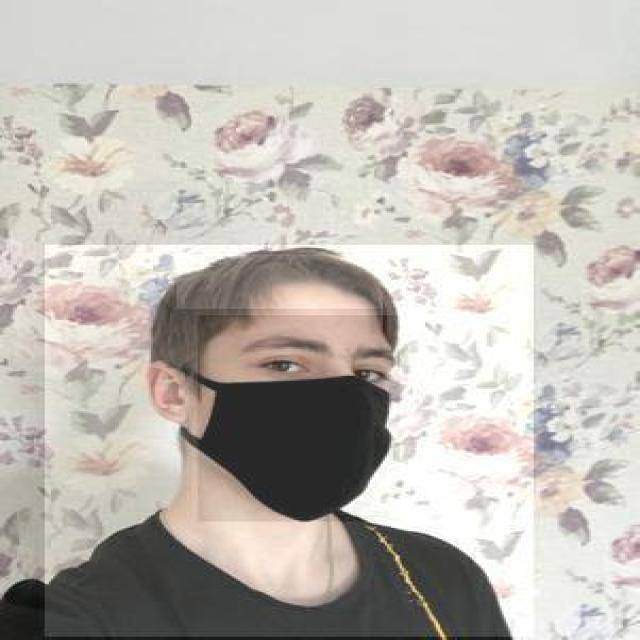face_mask: (198, 315, 400, 522)
head_nohelmet: (176, 254, 382, 309)
person: (44, 245, 536, 638)
